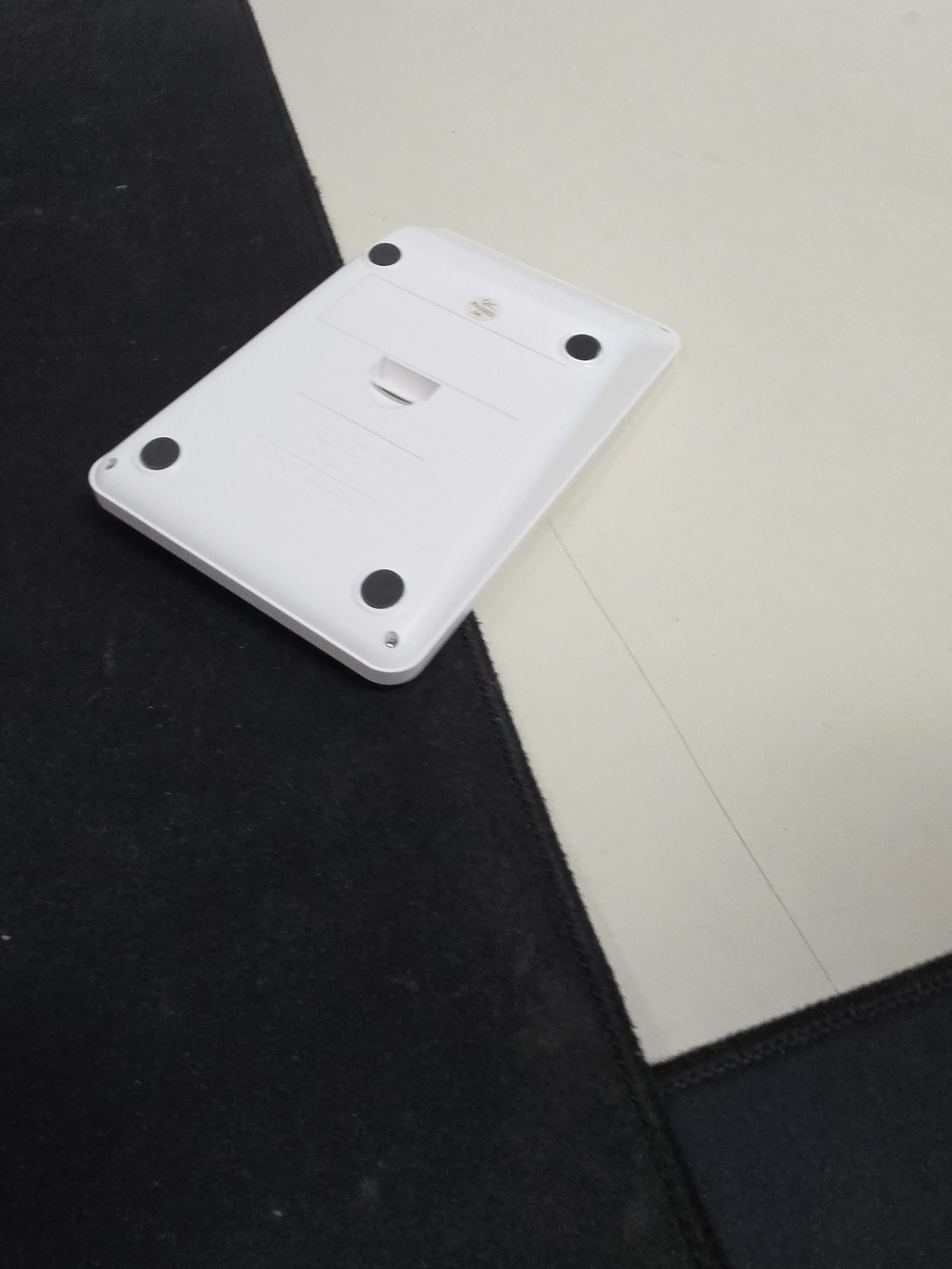calculator: (87, 226, 682, 685)
